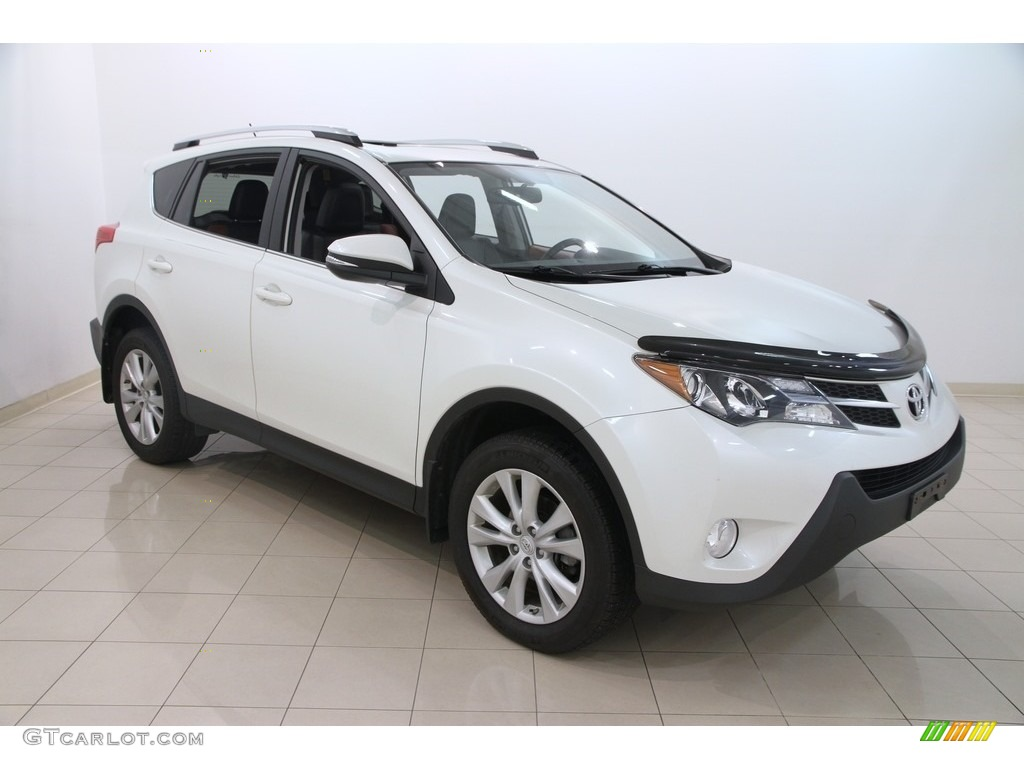Toyota RAV-4: (85, 124, 971, 658)
